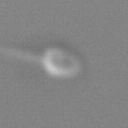normal: (1, 41, 44, 65)
